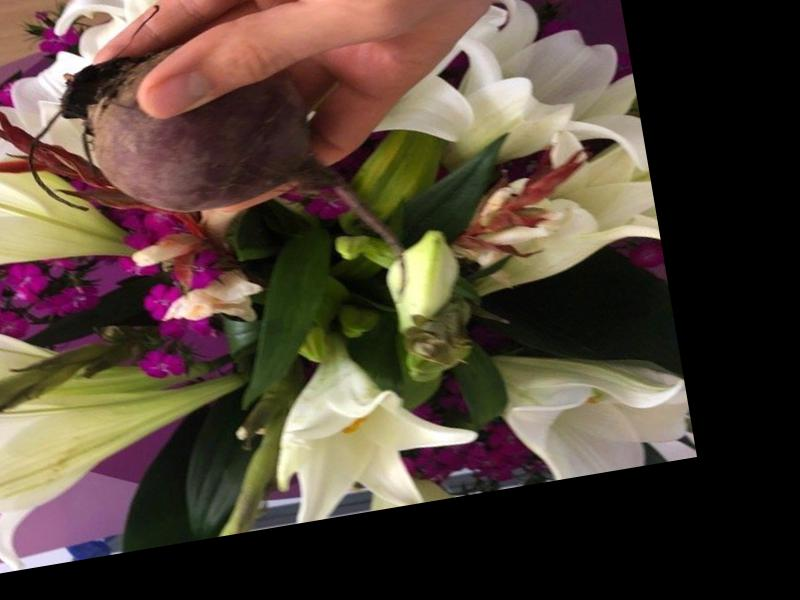Beet: (14, 15, 412, 354)
